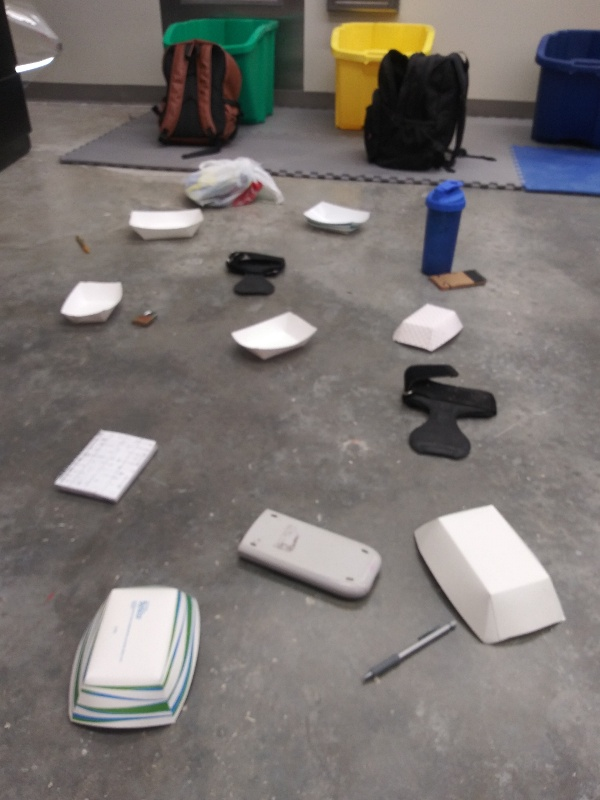plate: (409, 501, 571, 649), (60, 582, 202, 736), (225, 308, 324, 368), (387, 301, 469, 356), (57, 278, 130, 329), (295, 196, 376, 241), (127, 203, 209, 246)
